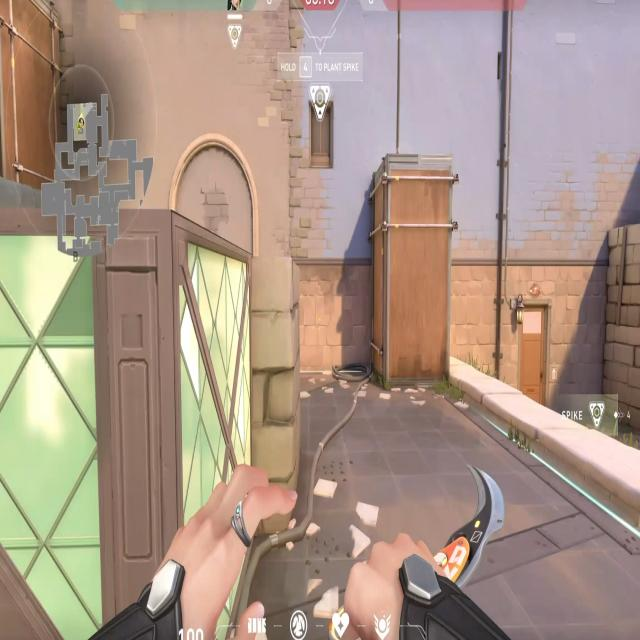A_Site_Box: (0, 211, 309, 640)
